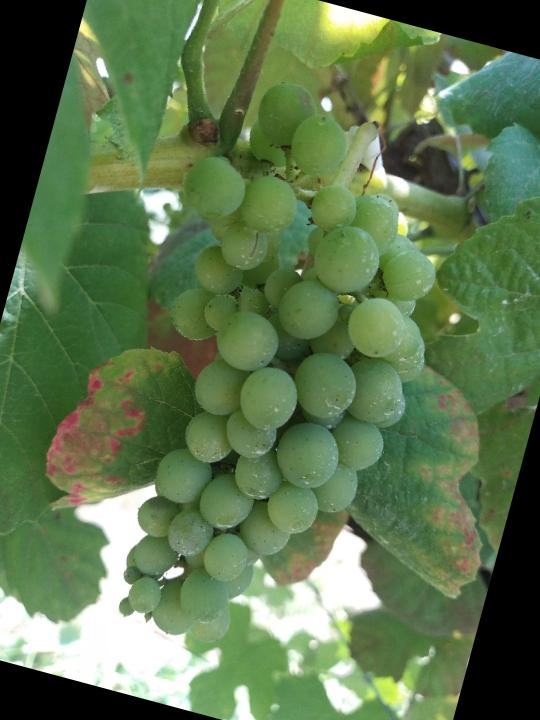grape: (64, 58, 489, 689)
